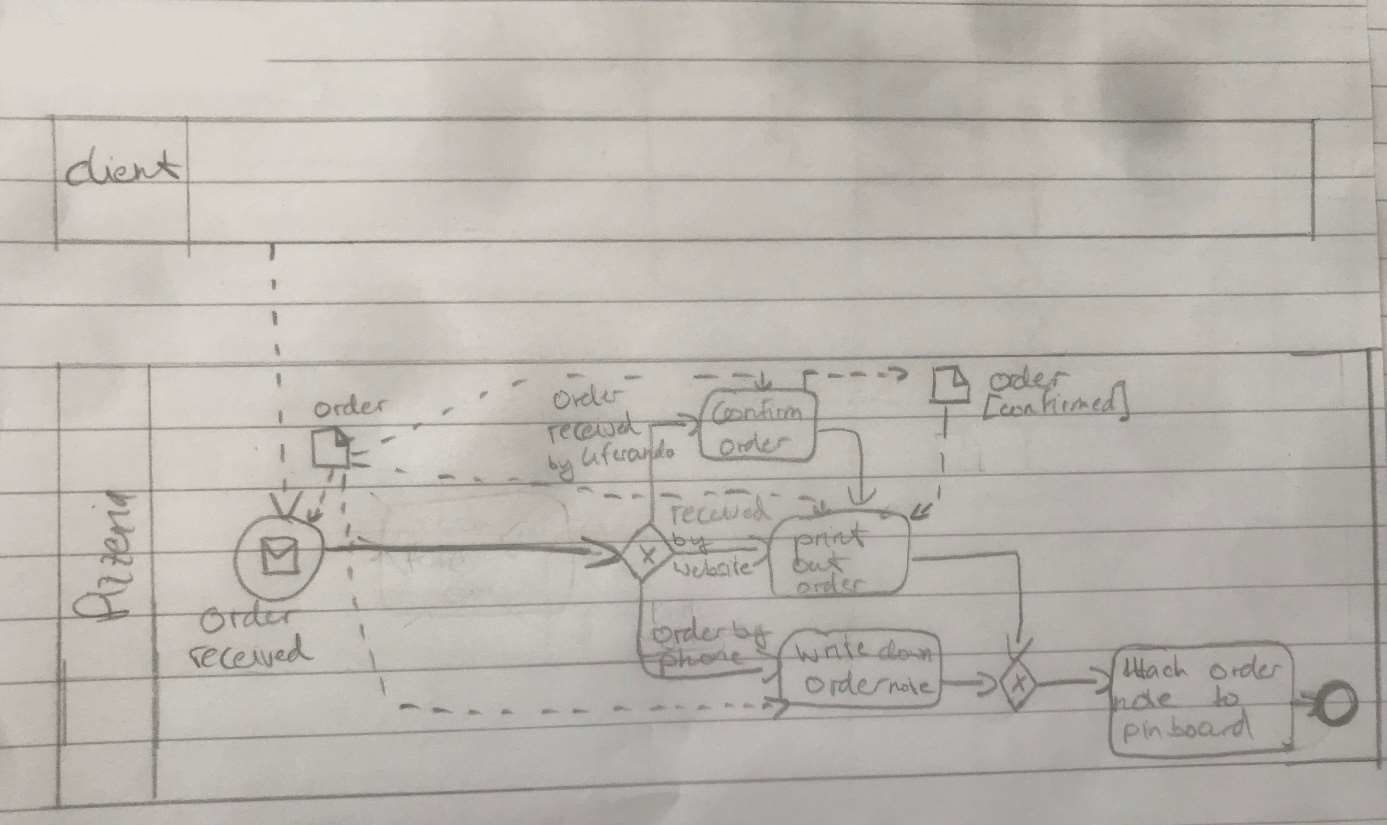Attach: (1112, 649, 1195, 686)
Pizzeria: (69, 482, 148, 625)
[confirmed]: (977, 393, 1131, 435)
by: (730, 613, 775, 649), (670, 528, 712, 556), (543, 451, 576, 481)
client: (58, 146, 185, 189)
confirm: (708, 395, 811, 428)
down: (874, 637, 940, 668)
liferando: (577, 440, 682, 468)
note: (1113, 686, 1183, 716)
order: (193, 601, 304, 636), (984, 359, 1074, 393), (650, 613, 733, 646), (1204, 653, 1287, 683), (549, 382, 628, 412), (718, 429, 794, 459), (311, 393, 391, 421), (790, 573, 869, 600)
ordernote: (805, 670, 937, 698)
out: (790, 550, 845, 577)
phone: (652, 645, 748, 682)
pin: (1118, 715, 1166, 750)
pinboard: (1122, 708, 1263, 746)
print: (790, 521, 865, 559)
received: (183, 630, 312, 678), (540, 422, 639, 447)
reveived: (665, 495, 775, 524)
to: (1209, 684, 1242, 710)
website: (671, 550, 756, 581)
write: (788, 636, 872, 665)
